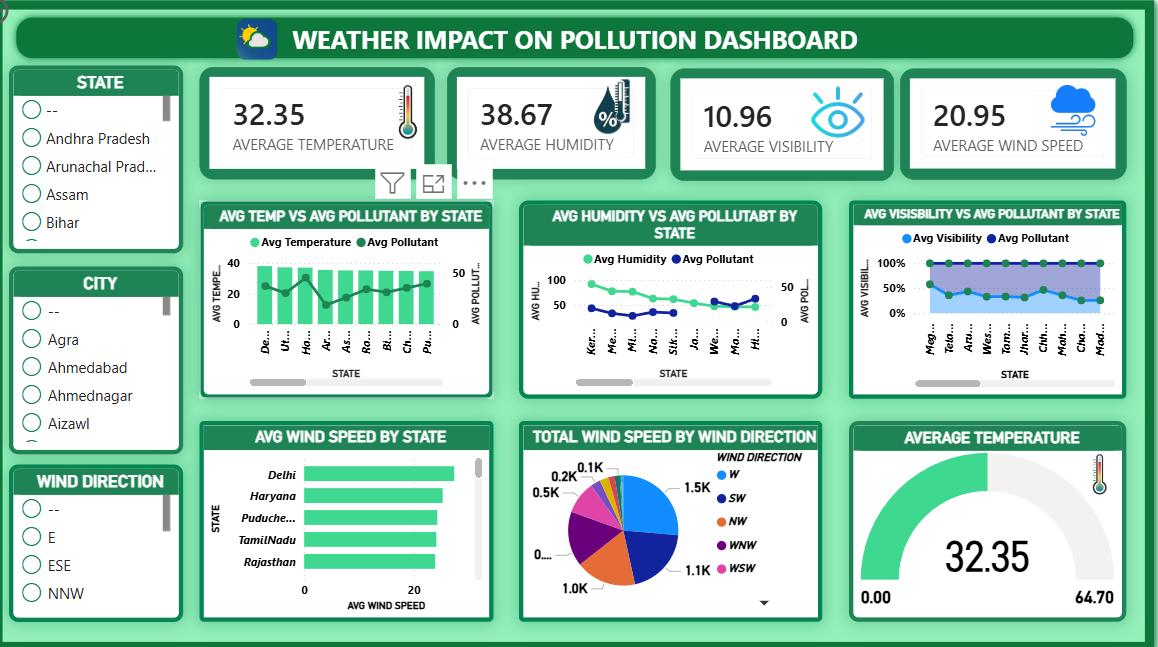

What the dashboard file says about the page in this screenshot:
{"tool":"powerbi","page":{"name":"WEATHER IMPACT DASHBOARD","canvas":[1280,720],"ordinal":1},"visuals":[{"type":"shape","box":[9.7,0,1271.1,720.6],"z":0},{"type":"shape","box":[35,20,1221.7,60],"z":1000},{"type":"listSlicer","title":"STATE","fields":{"Values":["Weather_Data.state"]},"box":[35.6,79.3,187.8,202.4],"z":2000},{"type":"listSlicer","title":"CITY","fields":{"Values":["Weather_Data.city"]},"box":[35.6,296.3,187.8,202.4],"z":3000},{"type":"listSlicer","title":"WIND DIRECTION","fields":{"Values":["Weather_Data.wind direction"]},"box":[35.6,510.1,187.8,170],"z":4000},{"type":"cardVisual","fields":{"Data":["Weather_Data.Avg Temperature"]},"box":[241.3,81,254.2,121.4],"z":5000},{"type":"cardVisual","fields":{"Data":["Weather_Data.Avg Humidity"]},"box":[508.4,81,225.1,121.4],"z":6000},{"type":"cardVisual","fields":{"Data":["Weather_Data.Avg Visibility"]},"box":[749.7,82.6,241.3,121.4],"z":7000},{"type":"cardVisual","fields":{"Data":["Weather_Data.Avg Wind Speed"]},"box":[997.4,82.6,244.5,119.8],"z":8000},{"type":"lineClusteredColumnComboChart","title":"AVG TEMP VS AVG POLLUTANT BY STATE","fields":{"Y":["Weather_Data.Avg Temperature"],"Y2":["AQI_Data.Avg Pollutant"],"Category":["Weather_Data.state"]},"box":[241.3,225.1,317.4,213.7],"z":9000},{"type":"lineChart","title":"AVG HUMIDITY VS AVG POLLUTABT BY STATE","fields":{"Y2":["AQI_Data.Avg Pollutant"],"Y":["Weather_Data.Avg Humidity"],"Category":["Weather_Data.state"]},"box":[586.2,225.1,327.1,213.7],"z":10000},{"type":"hundredPercentStackedAreaChart","title":"AVG VISISBILITY VS AVG POLLUTANT BY STATE","fields":{"Y":["Weather_Data.Avg Visibility","AQI_Data.Avg Pollutant"],"Category":["Weather_Data.state"]},"box":[942.4,225.1,299.6,213.7],"z":11000},{"type":"actionButton","box":[0,0,100,40],"z":12000},{"type":"clusteredBarChart","title":"AVG WIND SPEED BY STATE","fields":{"Y":["Weather_Data.Avg Wind Speed"],"Category":["Weather_Data.state"]},"box":[241.3,463.1,317.4,217],"z":13000},{"type":"pieChart","title":"TOTAL WIND SPEED BY WIND DIRECTION","fields":{"Category":["Weather_Data.wind direction"],"Y":["Sum(Weather_Data.wind speed in kmh)"]},"box":[586.2,463.1,327.1,217],"z":14000},{"type":"gauge","title":"AVERAGE TEMPERATURE","fields":{"Y":["Weather_Data.Avg Temperature"]},"box":[942.4,463.1,299.6,217],"z":15000},{"type":"image","box":[437.2,95.5,58.3,68],"z":15002},{"type":"image","box":[1183.7,498.7,58.3,43.7],"z":15003},{"type":"image","box":[623.4,89.1,126.3,81],"z":15004},{"type":"image","box":[882.5,95.5,95.5,68],"z":15005},{"type":"image","box":[1131.8,100.4,103.6,56.7],"z":15006},{"type":"image","box":[270.4,25.9,64.8,48.6],"z":15007}]}

Visuals, with their boxes in screenshot pixels (x1, y1, x2, y2), scaled from the page's 1280x720 canvas onto the 1158x647 screenshot:
shape: bbox=(9, 0, 1157, 646)
shape: bbox=(32, 18, 1137, 72)
"STATE" listSlicer: bbox=(32, 71, 202, 253)
"CITY" listSlicer: bbox=(32, 266, 202, 448)
"WIND DIRECTION" listSlicer: bbox=(32, 458, 202, 611)
cardVisual - Weather_Data.Avg Temperature: bbox=(218, 73, 448, 182)
cardVisual - Weather_Data.Avg Humidity: bbox=(460, 73, 664, 182)
cardVisual - Weather_Data.Avg Visibility: bbox=(678, 74, 897, 183)
cardVisual - Weather_Data.Avg Wind Speed: bbox=(902, 74, 1124, 182)
"AVG TEMP VS AVG POLLUTANT BY STATE" lineClusteredColumnComboChart: bbox=(218, 202, 505, 394)
"AVG HUMIDITY VS AVG POLLUTABT BY STATE" lineChart: bbox=(530, 202, 826, 394)
"AVG VISISBILITY VS AVG POLLUTANT BY STATE" hundredPercentStackedAreaChart: bbox=(853, 202, 1124, 394)
actionButton: bbox=(0, 0, 90, 36)
"AVG WIND SPEED BY STATE" clusteredBarChart: bbox=(218, 416, 505, 611)
"TOTAL WIND SPEED BY WIND DIRECTION" pieChart: bbox=(530, 416, 826, 611)
"AVERAGE TEMPERATURE" gauge: bbox=(853, 416, 1124, 611)
image: bbox=(396, 86, 448, 147)
image: bbox=(1071, 448, 1124, 487)
image: bbox=(564, 80, 678, 153)
image: bbox=(798, 86, 885, 147)
image: bbox=(1024, 90, 1118, 141)
image: bbox=(245, 23, 303, 67)
